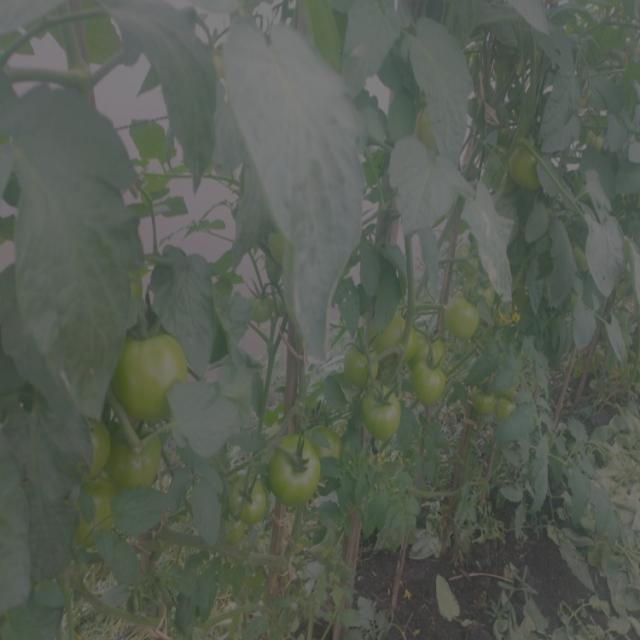tomato: (110, 337, 192, 419), (115, 427, 169, 489), (276, 444, 324, 506), (388, 320, 444, 358), (231, 480, 266, 540), (513, 145, 548, 197), (365, 389, 398, 443), (412, 364, 449, 408), (72, 425, 105, 471), (455, 297, 486, 342), (81, 494, 108, 536), (350, 351, 372, 387), (252, 294, 276, 326), (422, 107, 437, 152), (478, 390, 493, 417), (497, 400, 517, 418)
